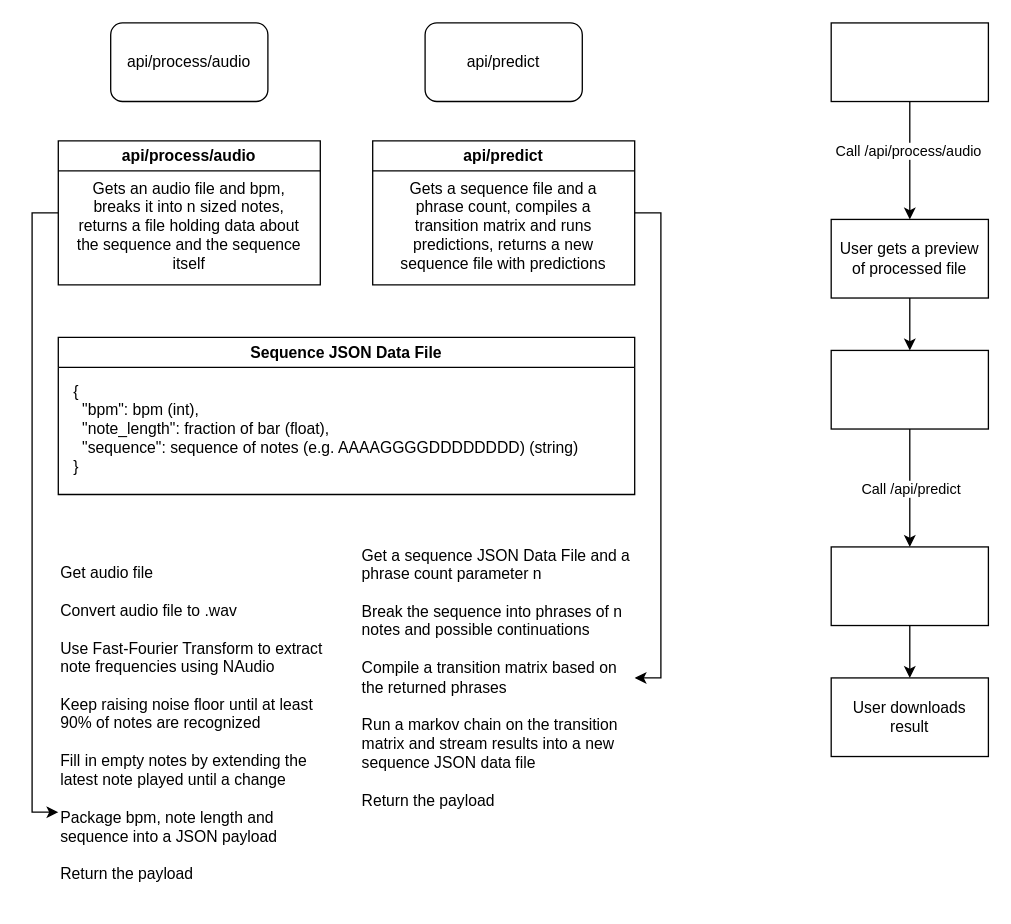
Image size: 1011x924. Some labels were removed from this diagram. Here are the shapes that lost their labels. From the top down, the box of each, then its label:
(830, 22, 988, 102): User picks out file
(830, 349, 988, 429): User specifies parameters for generation
(830, 546, 988, 626): User gets preview of generated text
